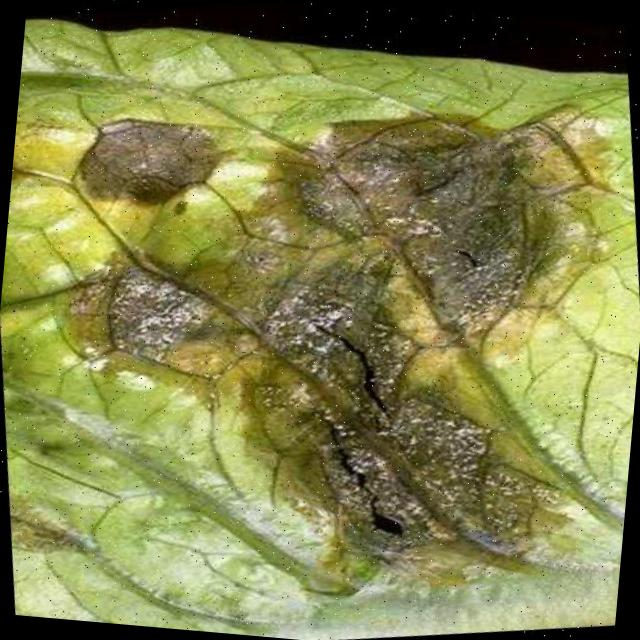Downy_Mildew: (15, 43, 640, 640)
